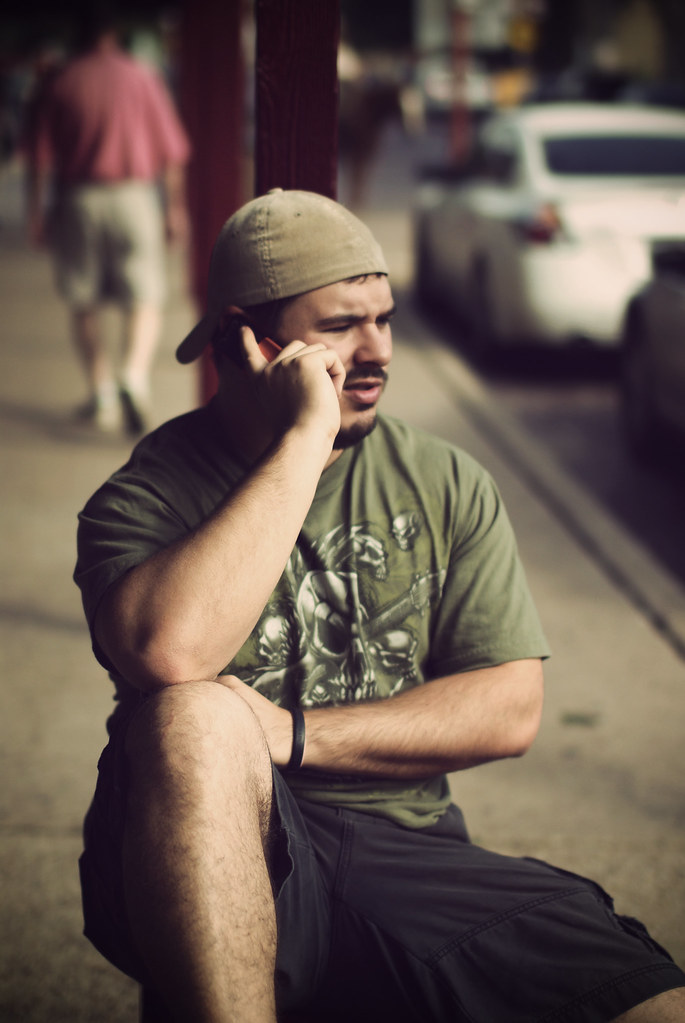phone: (214, 323, 334, 440)
talk: (219, 302, 394, 466)
